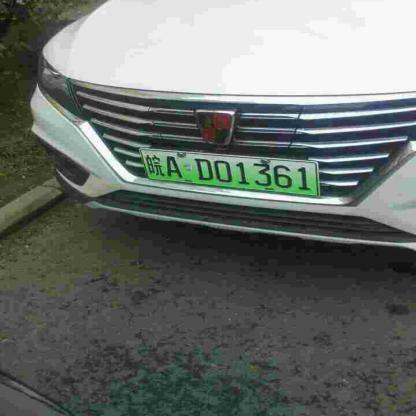lp: (140, 151, 320, 193)
